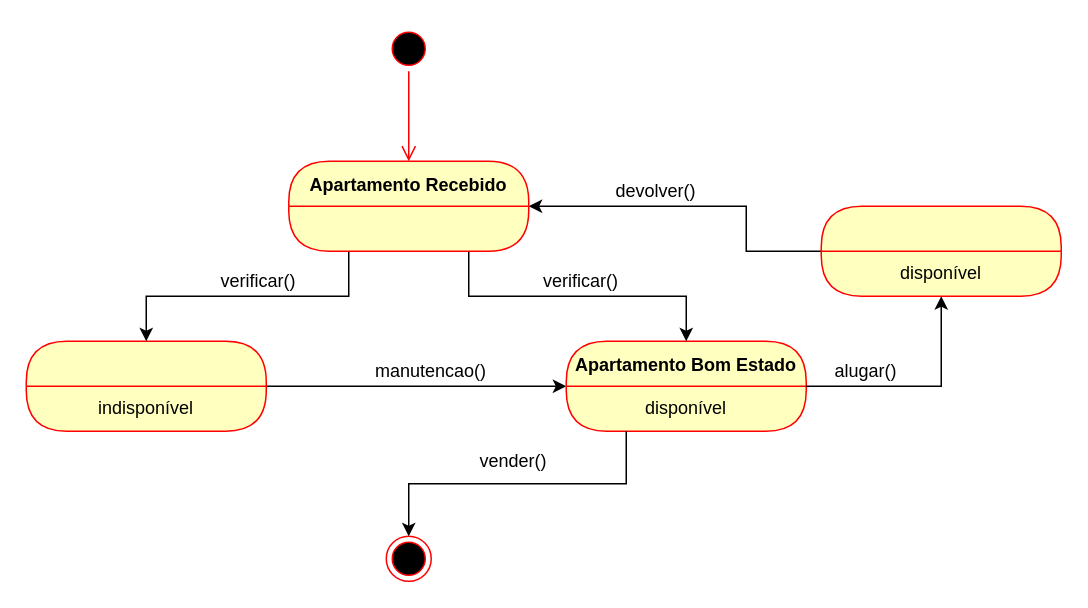
Image size: 1088x608. Some labels were removed from this diagram. The shapes that lost their labels are listed below. From the top down, each one's box as (x1, y1, x2, y2) in pixels, then its label:
(820, 205, 1061, 296): Apartamento Alugado
(25, 340, 266, 431): Apartamento Mau Estado
